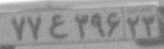character: (45, 12, 71, 41), (72, 11, 91, 41), (8, 15, 27, 44), (90, 11, 107, 41), (105, 10, 122, 40), (26, 13, 42, 43), (125, 13, 141, 40), (142, 13, 157, 39)
